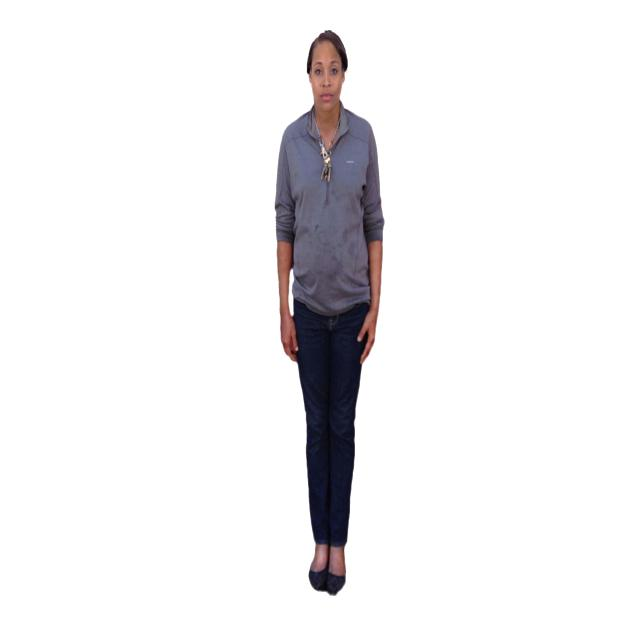jovem: (272, 26, 402, 604)
